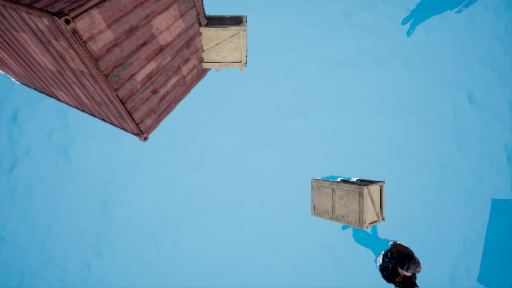person: (356, 228, 427, 286)
